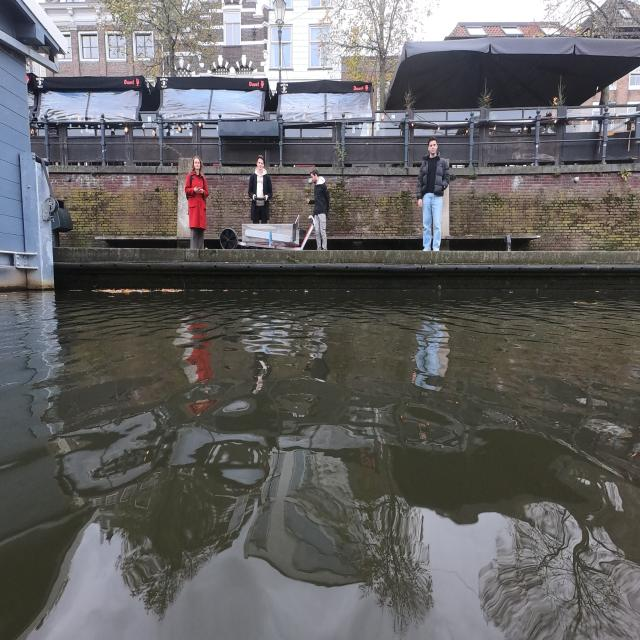dock: (54, 248, 640, 292)
tree: (98, 2, 222, 72)
water: (14, 282, 638, 632)
